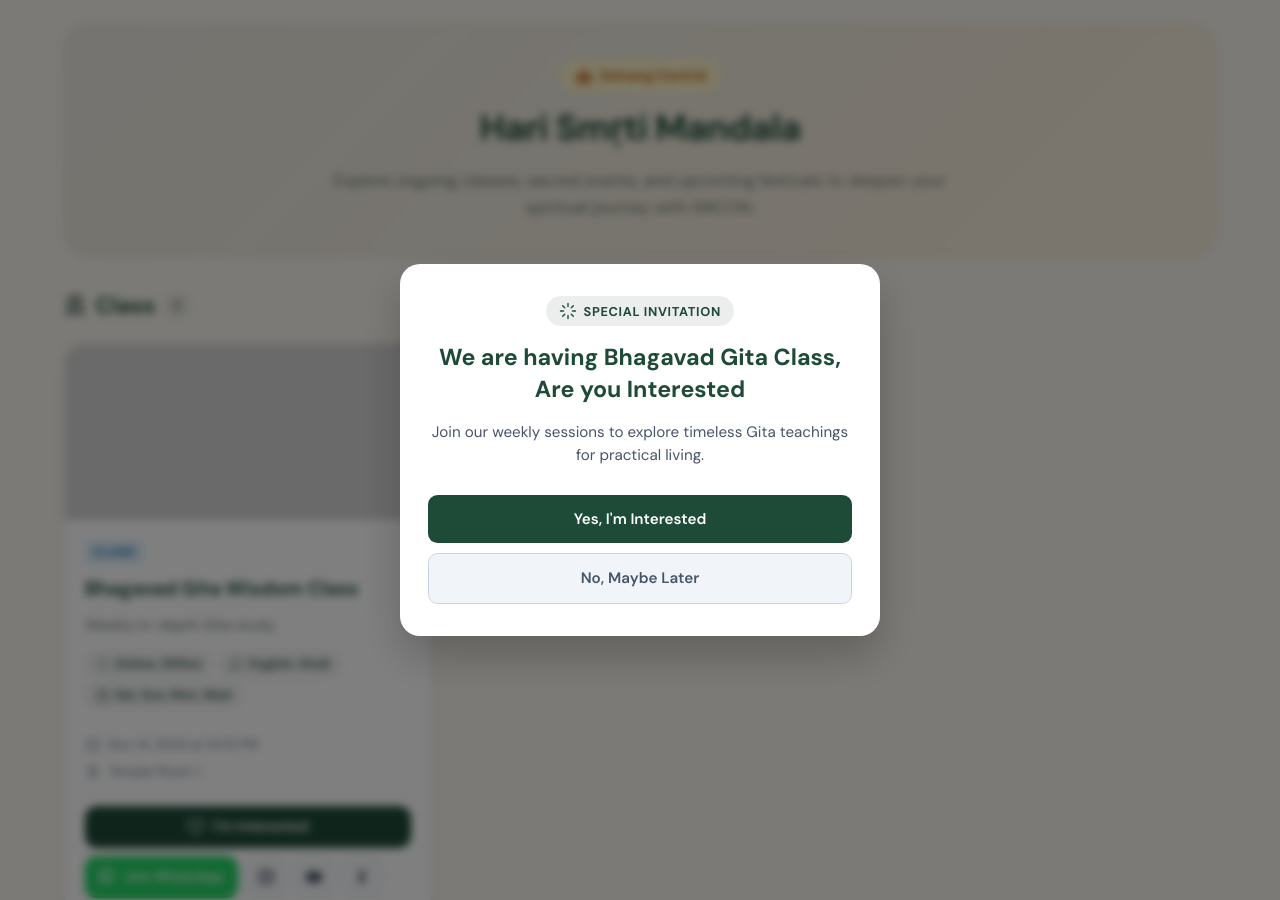
Test: SatsangCentralPage — Prompt Flow, Interest Form & Social Media › immediately shows Bhagavad Gita prompt when arriving from Continue Your Journey flow
Check: the heading "We are having Bhagavad Gita Class,Are you Interested" is shown, box [439,342,841,405]
Check: the button "No, Maybe Later" is shown, box [428,554,852,604]
Clicking "Yes, I'm Interested" opens the Interest Form
Click the button "Yes, I'm Interested": coordinates (640, 519) [428,495,852,543]
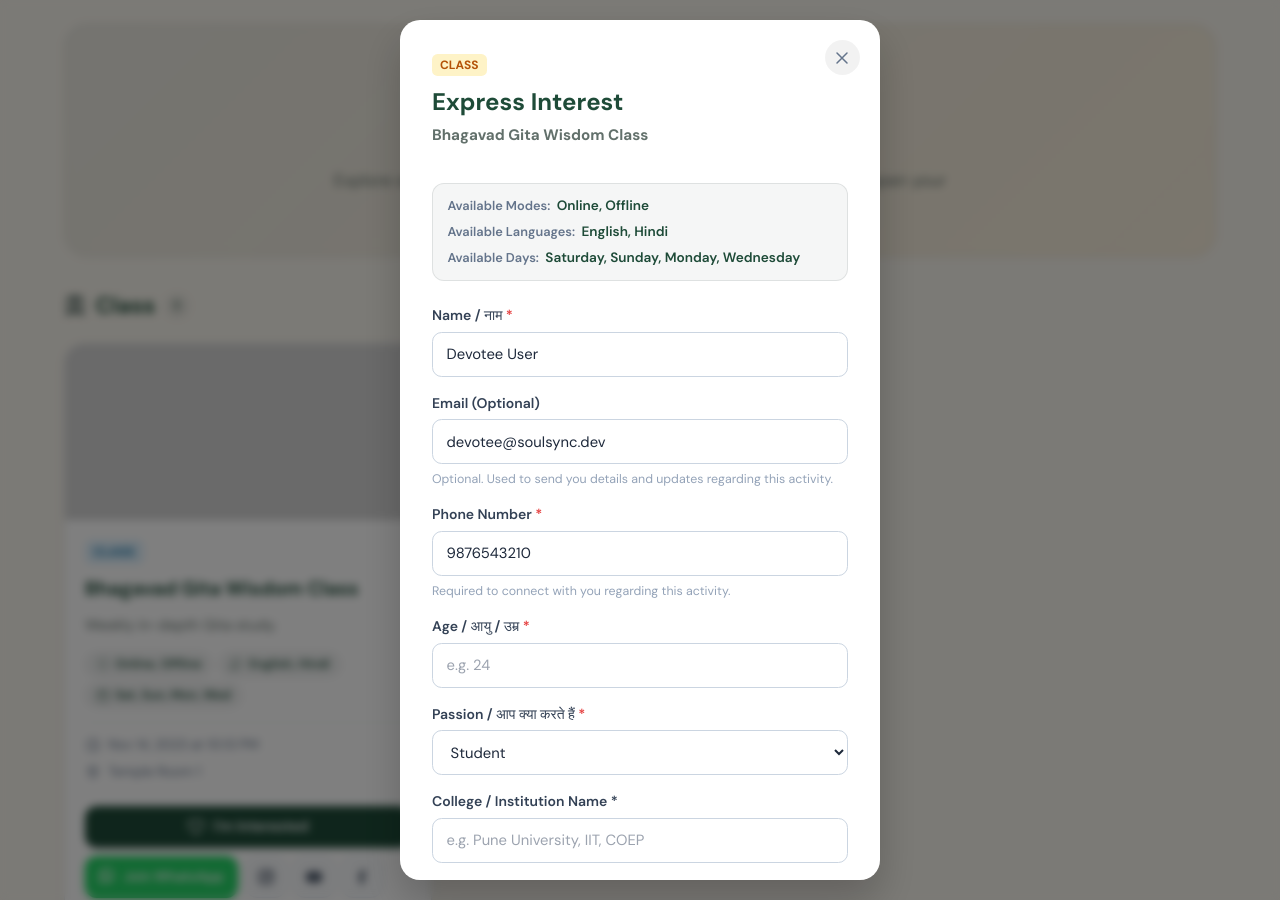
Check: the heading "Express Interest" is shown, box [432,86,623,117]
Check: the text "Bhagavad Gita Wisdom Class" is shown, box [432,125,648,145]
